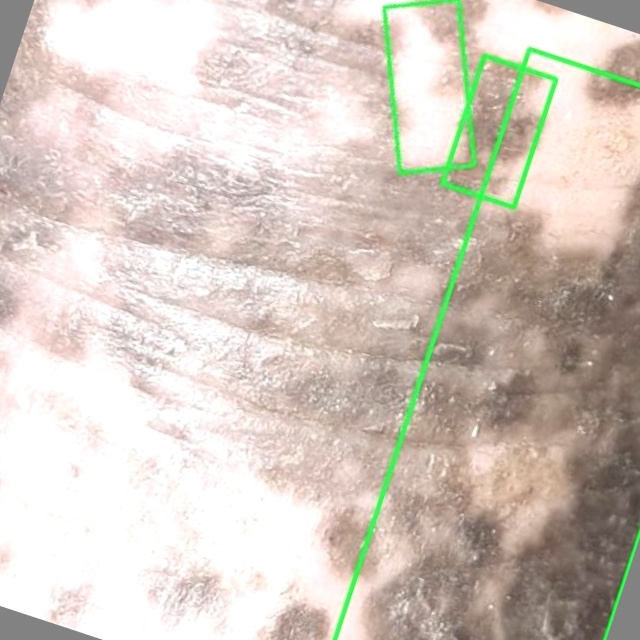Eczema: (335, 48, 639, 639), (442, 55, 556, 207), (382, 0, 473, 173)
